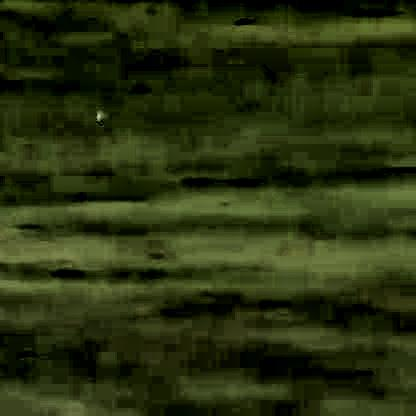golfball: (93, 107, 104, 118)
